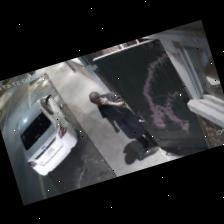person: (88, 92, 156, 154)
